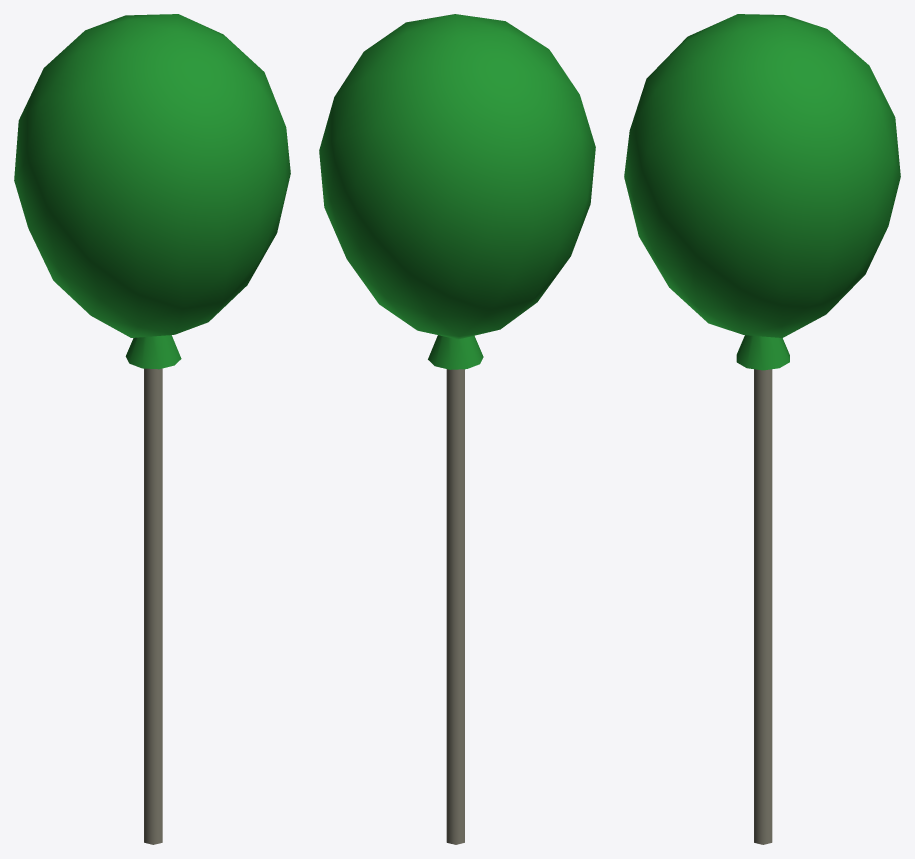
Rendered from baloon_01.fbx.
3 views of the same model, side by side, from view 1: azimuth 30°, elevation 25°; view 2: azimuth 150°, elevation 25°; view 3: azimuth 270°, elevation 25° (orthographic).
Parts seen in each view (by area): view 1: baloon_01; view 2: baloon_01; view 3: baloon_01.
Part boxes in pixels (<box>): baloon_01: <box>14,14,290,844</box>; baloon_01: <box>319,14,595,844</box>; baloon_01: <box>624,14,900,844</box>.
Size of the model in its own units: 75.08 by 247 by 76.18.
